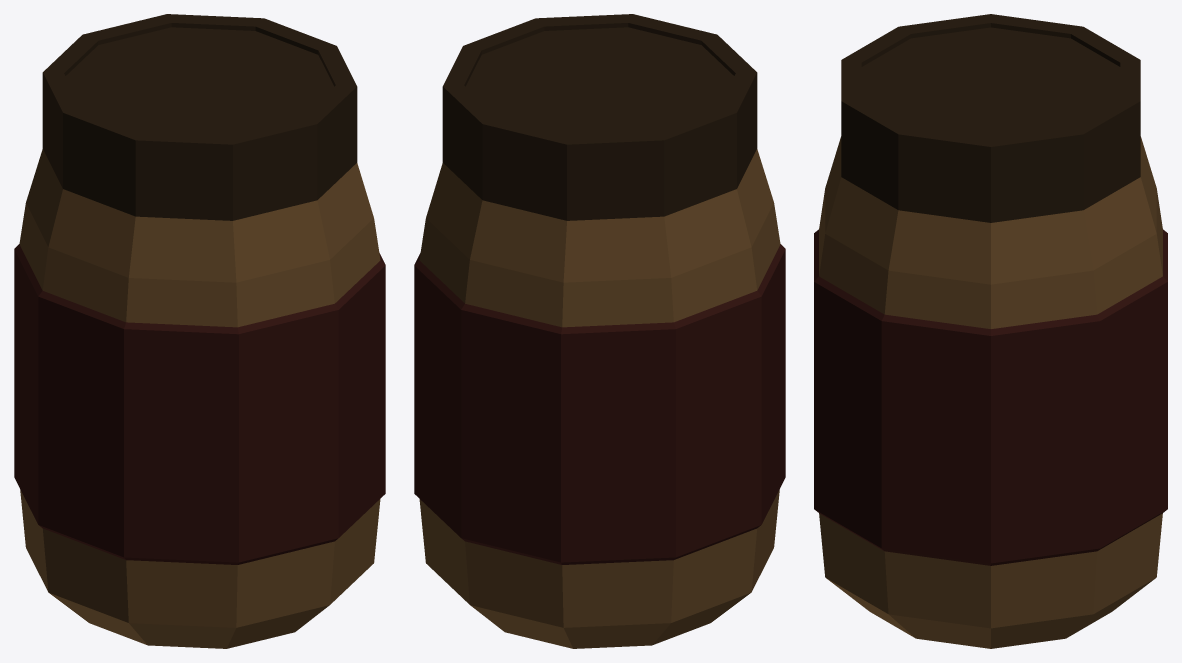
File: PeanutButter.obj
3 views of the same model, side by side, from view 1: azimuth 30°, elevation 25°; view 2: azimuth 150°, elevation 25°; view 3: azimuth 270°, elevation 25° (orthographic).
Parts seen in each view (by area): view 1: PeanutButter_Cylinder.035; view 2: PeanutButter_Cylinder.035; view 3: PeanutButter_Cylinder.035.
Part boxes in pixels (x1,y1,x2,y2): PeanutButter_Cylinder.035: (14,14,385,648); PeanutButter_Cylinder.035: (414,14,785,648); PeanutButter_Cylinder.035: (814,14,1167,648).
Bounding box in the file's own units: 0.4746 × 0.7243 × 0.4514.
